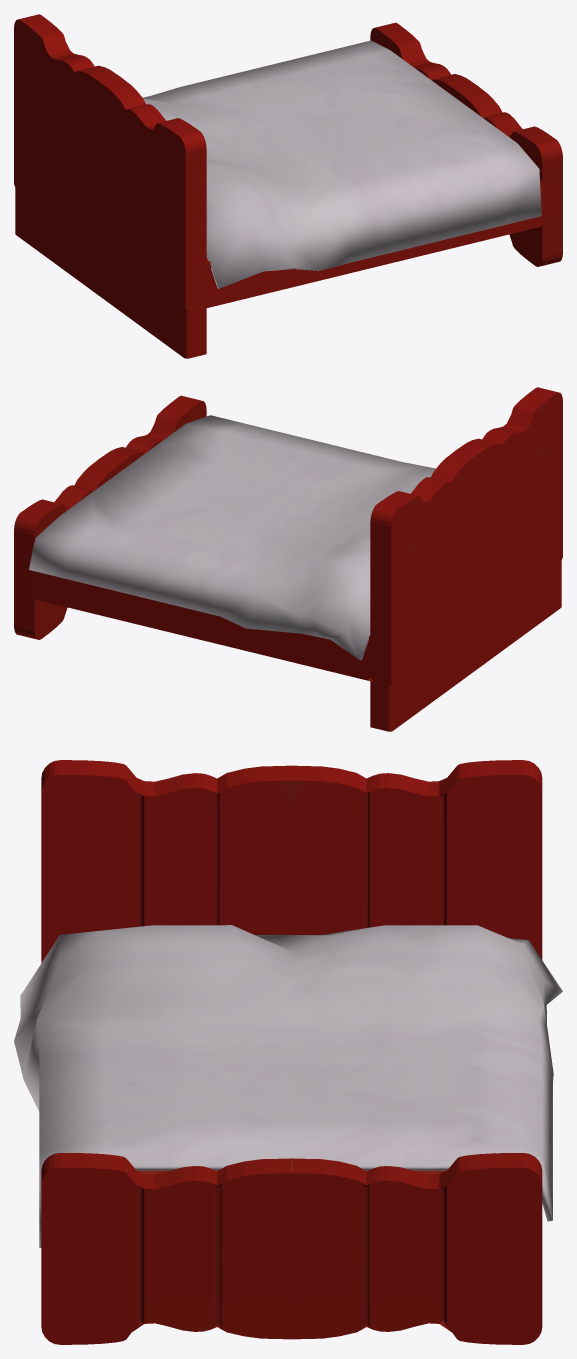
File: cama_passado.glb
3 views of the same model, one above another, from view 1: azimuth 30°, elevation 25°; view 2: azimuth 150°, elevation 25°; view 3: azimuth 270°, elevation 25° (orthographic). The views are drawn at different scales.
Parts seen in each view (by area): view 1: cobertor, cama, base_cama; view 2: cobertor, cama, base_cama; view 3: cobertor, base_cama, cama.
Part boxes in pixels (bbox=[...]): cobertor: bbox=[143, 40, 541, 288]; cama: bbox=[14, 14, 544, 358]; base_cama: bbox=[370, 22, 562, 266]; cobertor: bbox=[29, 415, 435, 660]; cama: bbox=[32, 387, 562, 731]; base_cama: bbox=[14, 395, 206, 639]; cobertor: bbox=[14, 925, 562, 1247]; base_cama: bbox=[41, 1153, 542, 1344]; cama: bbox=[41, 760, 542, 1174].
Bounding box in the file's own units: 2.49 × 1.37 × 2.15.
Materials: 3 (3 with a texture image).
